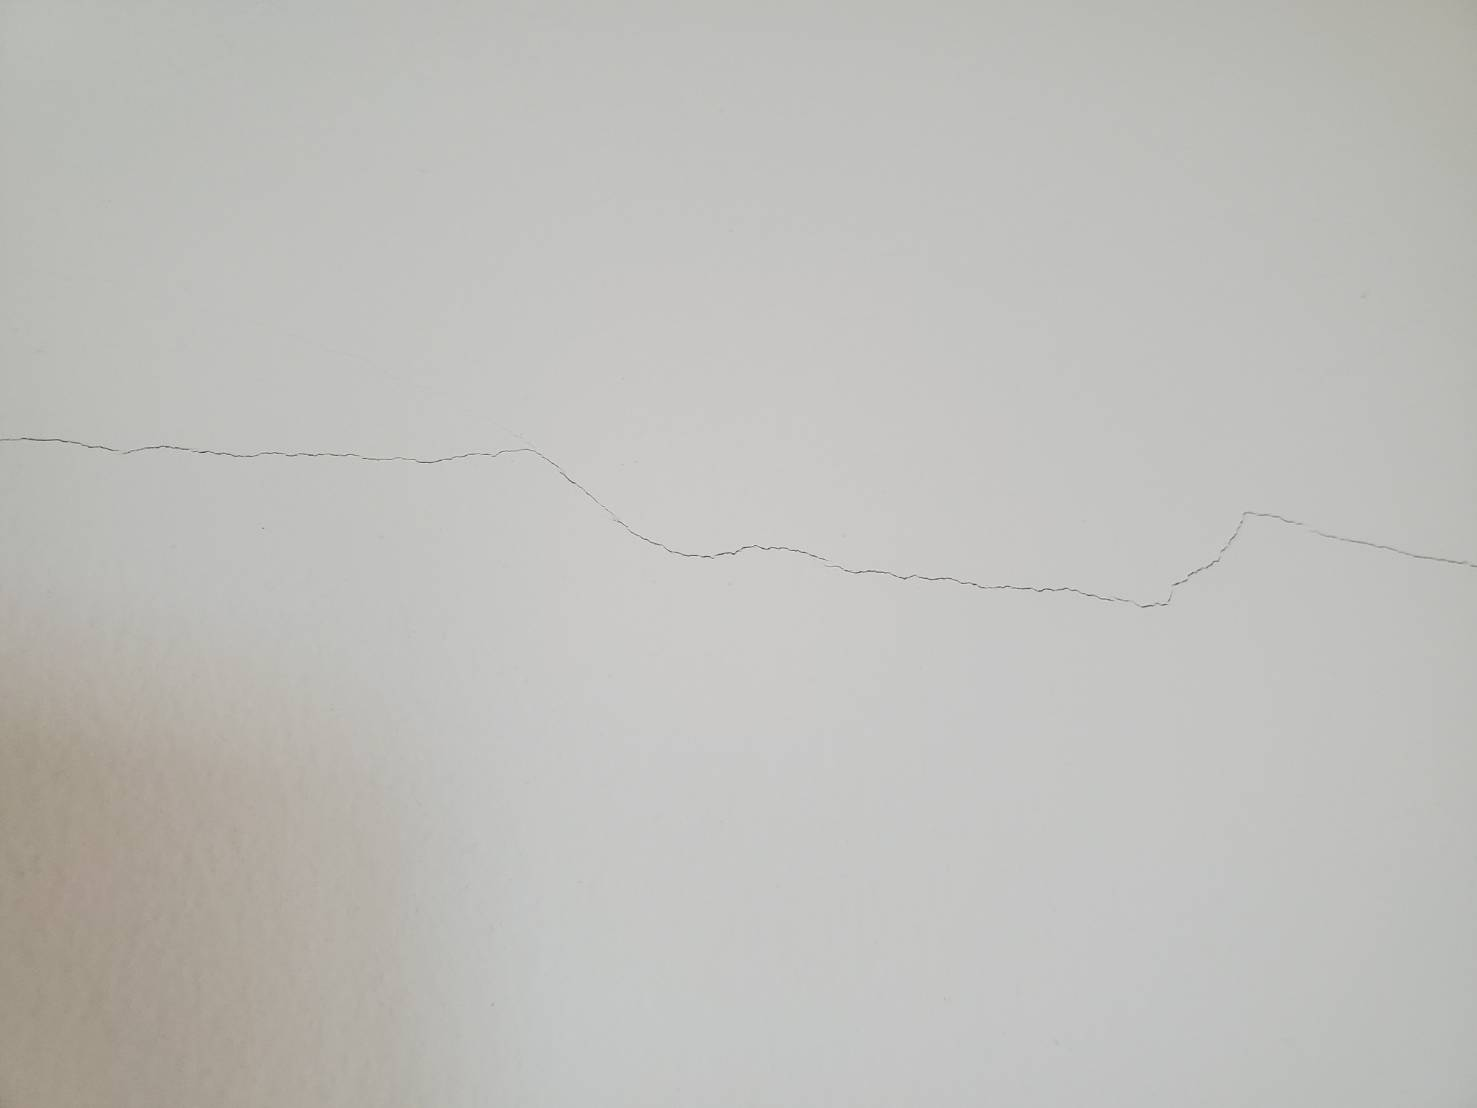Low: (1, 414, 1477, 638)
